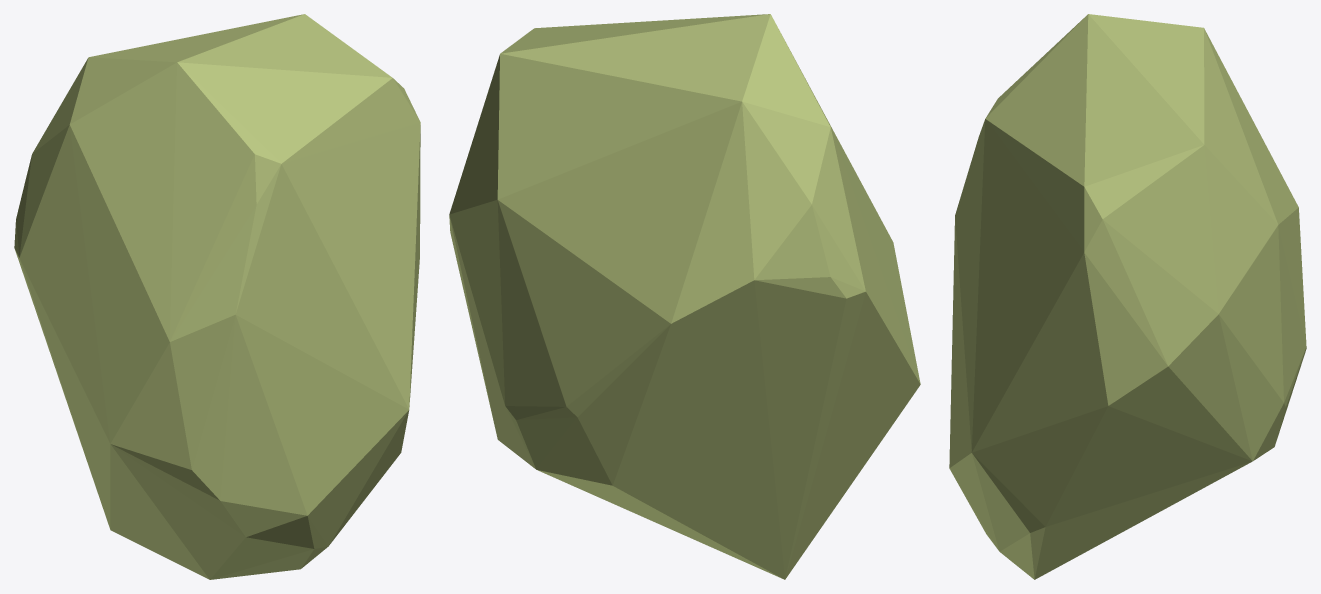
Rendered from food_produce_potato_j01.glb.
The picture shows the model from 3 angles, left to right: view 1: azimuth 30°, elevation 25°; view 2: azimuth 150°, elevation 25°; view 3: azimuth 270°, elevation 25°; orthographic projection. The views are drawn at different scales.
Visible parts, largest first — view 1: geometry_0; view 2: geometry_0; view 3: geometry_0.
Boxes of the visible parts, x1=… form: geometry_0: x1=14, y1=14, x2=420, y2=579; geometry_0: x1=449, y1=14, x2=920, y2=579; geometry_0: x1=949, y1=14, x2=1306, y2=579.
Bounding box in the file's own units: 0.344 × 0.449 × 0.2806.
